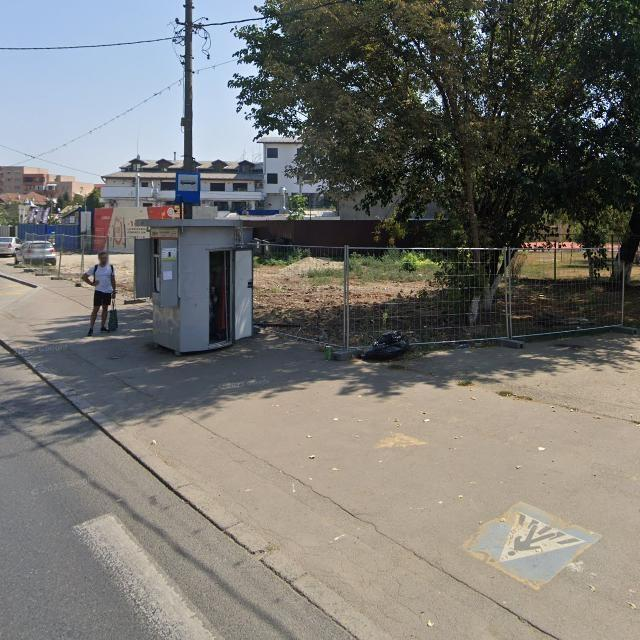info_crosswalk: (460, 500, 603, 590)
